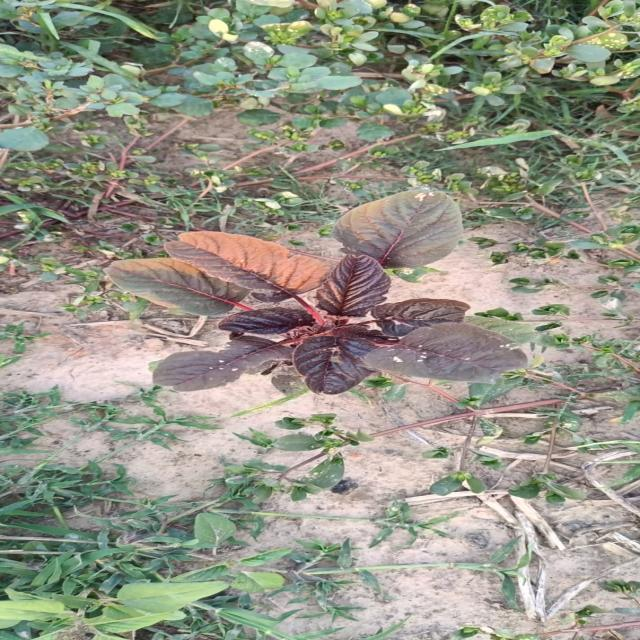plant: (104, 190, 527, 394)
